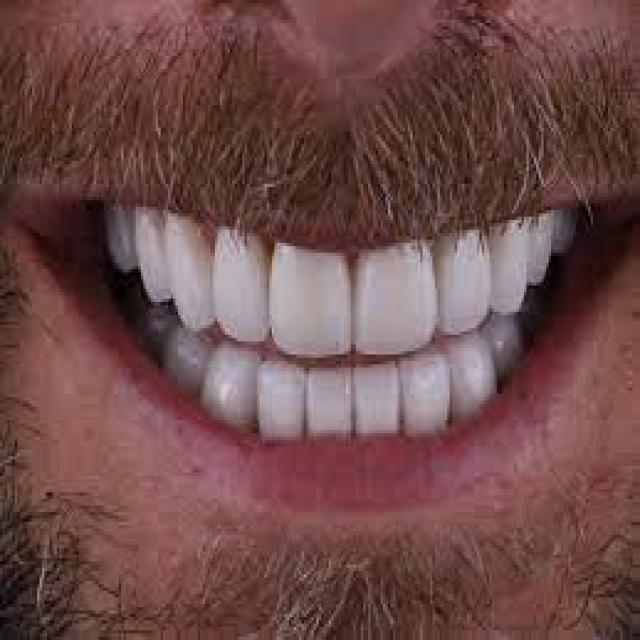tooth: (274, 246, 351, 355), (361, 239, 435, 348), (215, 226, 267, 342), (440, 230, 492, 331), (400, 354, 448, 434), (178, 213, 212, 322), (445, 338, 494, 407), (306, 364, 354, 434), (136, 204, 168, 298), (356, 364, 398, 434), (215, 344, 254, 416), (492, 226, 524, 312), (168, 325, 205, 387), (104, 204, 136, 262), (524, 217, 548, 279), (492, 315, 526, 358), (549, 204, 578, 252), (143, 298, 168, 344)
